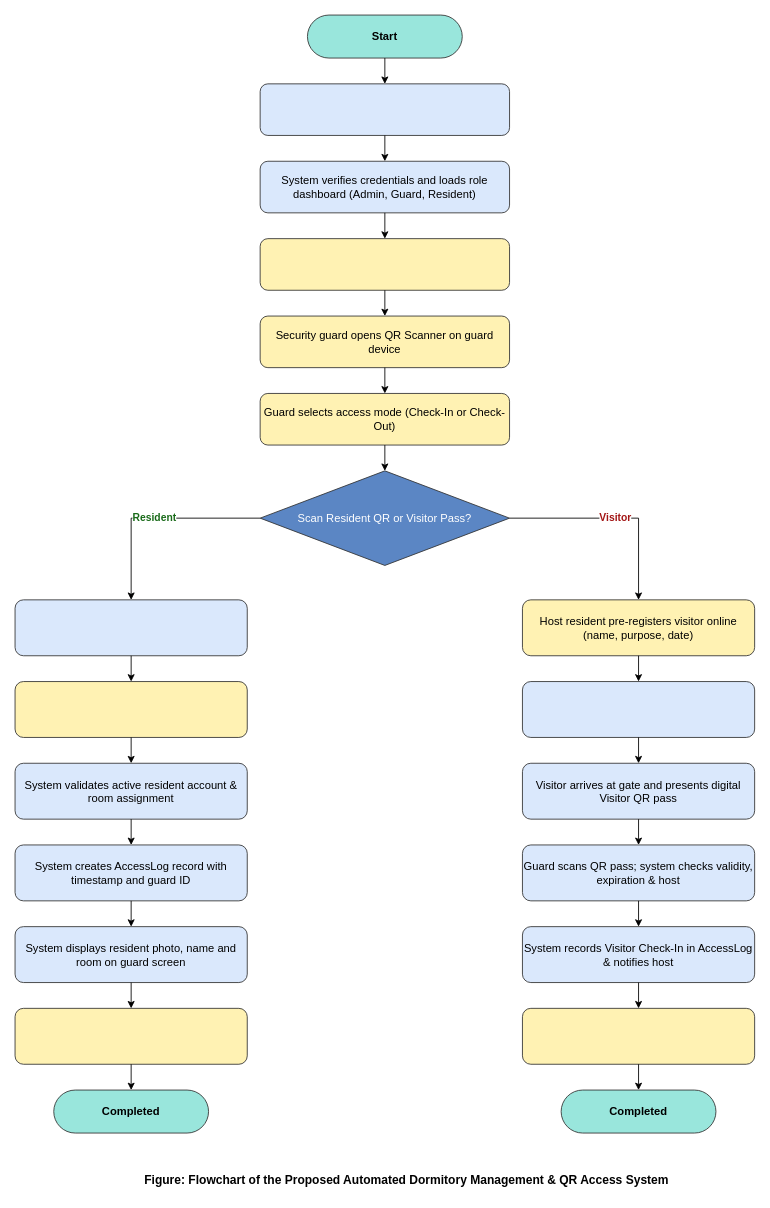
The diagram is 770 pixels wide and 1208 high, and some of its shapes have lost their labels. The box of each missing label's shape, as (x1, y1, x2, y2) in pixels:
Gate access granted; resident proceeds into / out of dormitory: (14, 1007, 247, 1064)
Guard admits visitor; system initiates visitor duration monitoring: (522, 1007, 755, 1064)
Guard scans Resident QR code using device camera scanner: (14, 681, 247, 737)
Person approaches dormitory security entrance gate: (259, 238, 510, 290)
Resident presents personal digital QR Code from mobile portal: (14, 599, 247, 656)
System generates digital Visitor QR pass with expiration timestamp: (522, 681, 755, 737)
User logs into Dormitory Management System via Web / Mobile: (259, 83, 510, 135)
